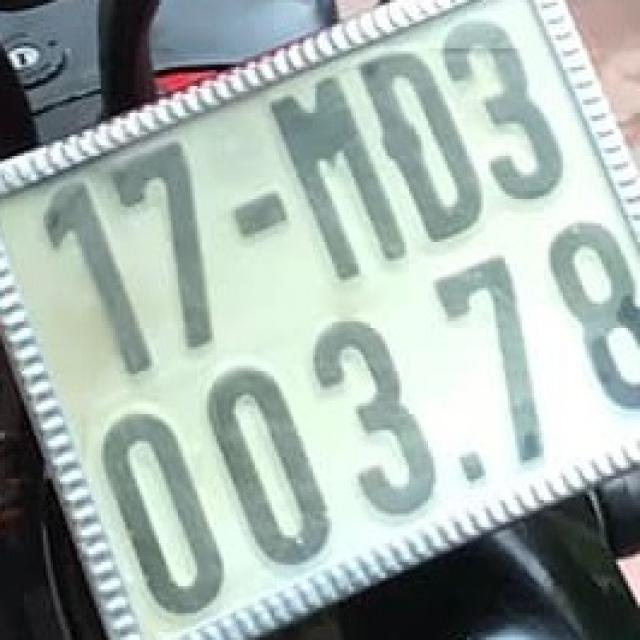0: (101, 396, 224, 618), (209, 352, 332, 570)
1: (34, 184, 158, 381)
3: (315, 309, 443, 519), (445, 15, 566, 203)
7: (436, 258, 554, 465), (112, 144, 225, 351)
8: (551, 210, 640, 417)
D: (361, 43, 484, 245)
M: (266, 82, 400, 276)
